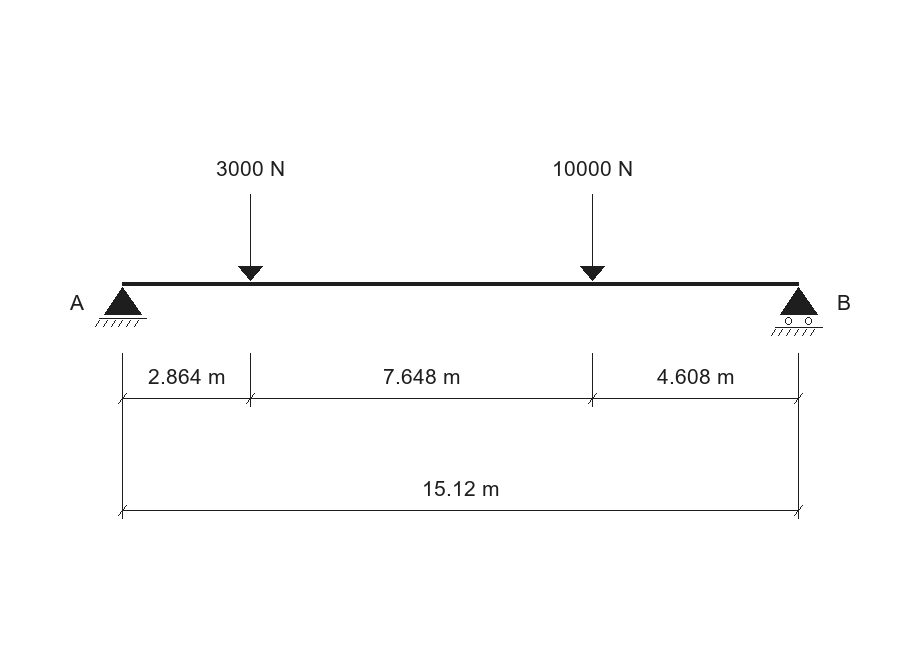pin_support: (95, 287, 147, 327)
point_load: (238, 194, 263, 281), (580, 194, 605, 281)
roller_support: (771, 287, 823, 336)
